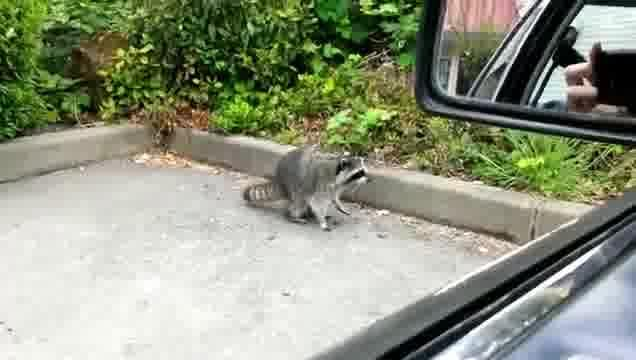raccoon: (243, 148, 374, 233)
